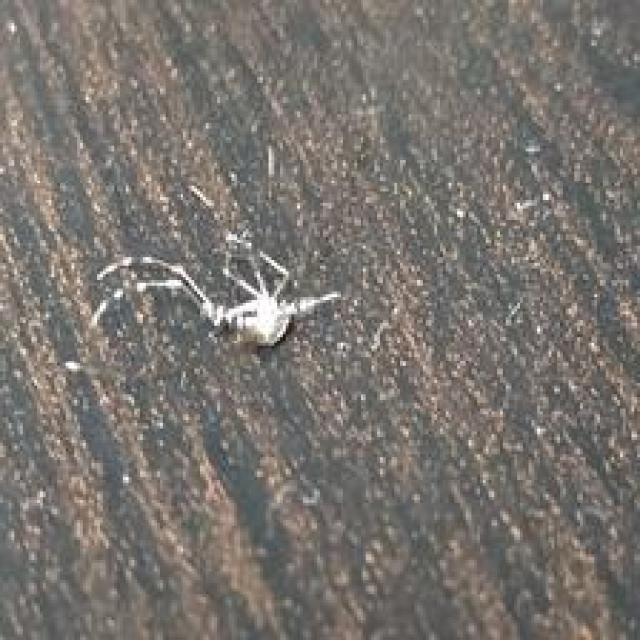Aedes albopictus: (87, 232, 342, 354)
